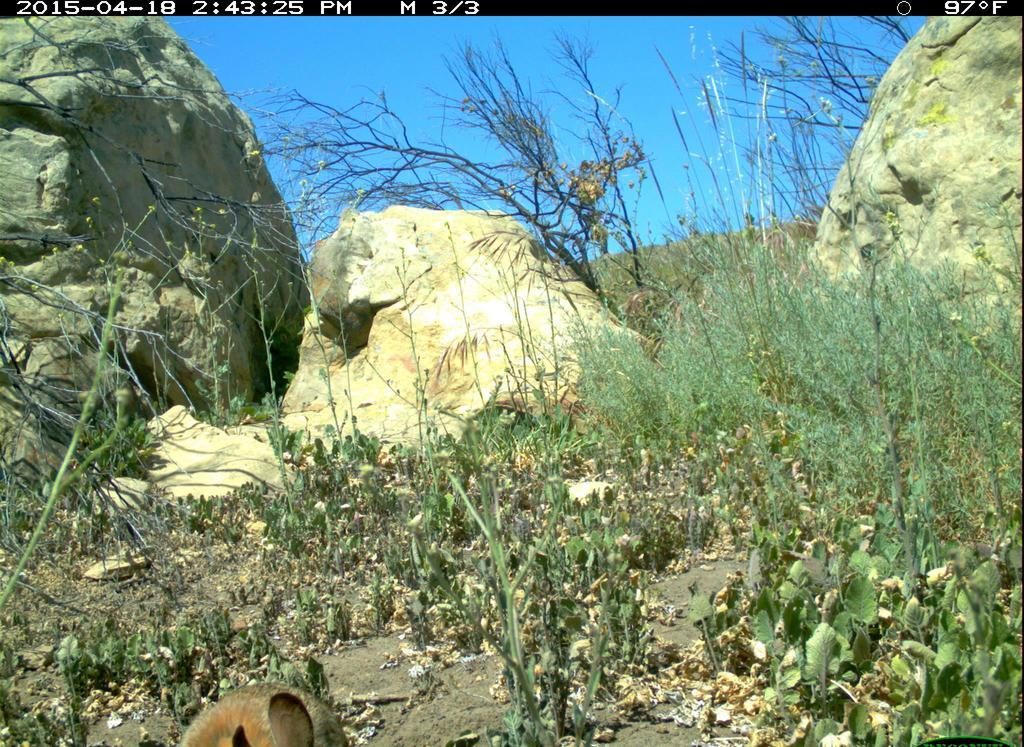rabbit: (171, 674, 358, 747)
